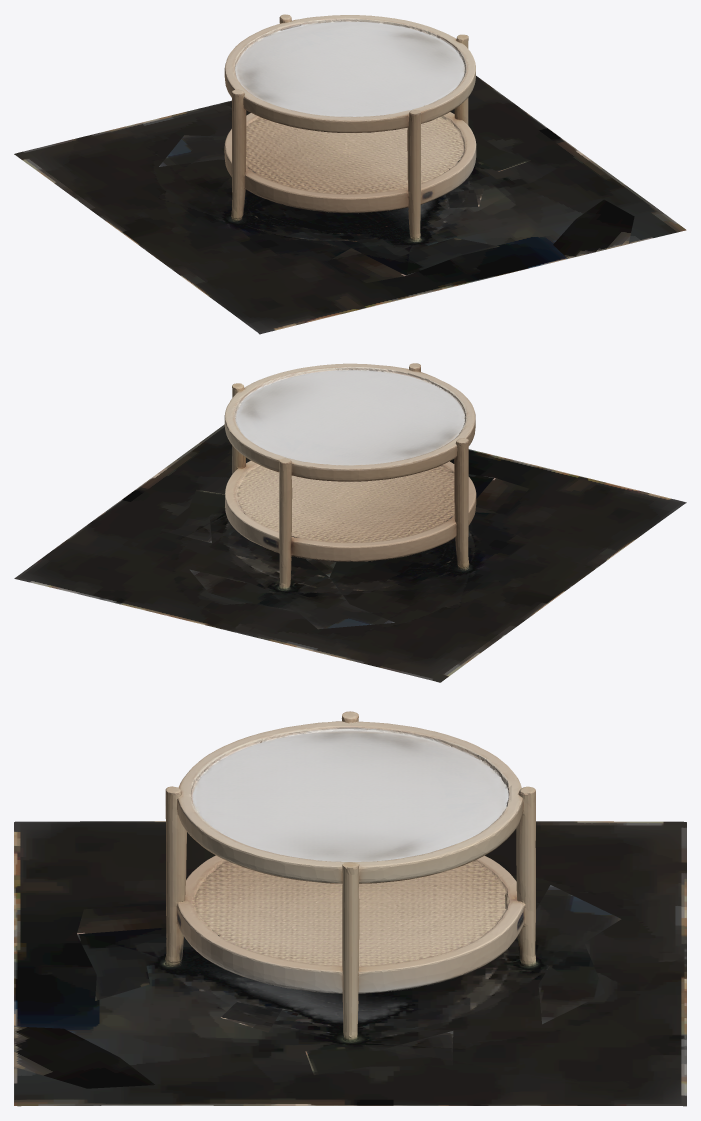
The picture shows the model from 3 angles, top to bottom: view 1: azimuth 30°, elevation 25°; view 2: azimuth 150°, elevation 25°; view 3: azimuth 270°, elevation 25°; orthographic projection. The views are drawn at different scales.
Parts seen in each view (by area): view 1: world; view 2: world; view 3: world.
Part boxes in pixels (x1,y1,x2,y2): world: (14, 14, 686, 334); world: (14, 363, 686, 682); world: (14, 711, 686, 1106).
Size of the model in its own units: 1 by 0.2867 by 1.
Materials: 1 (1 with a texture image).
